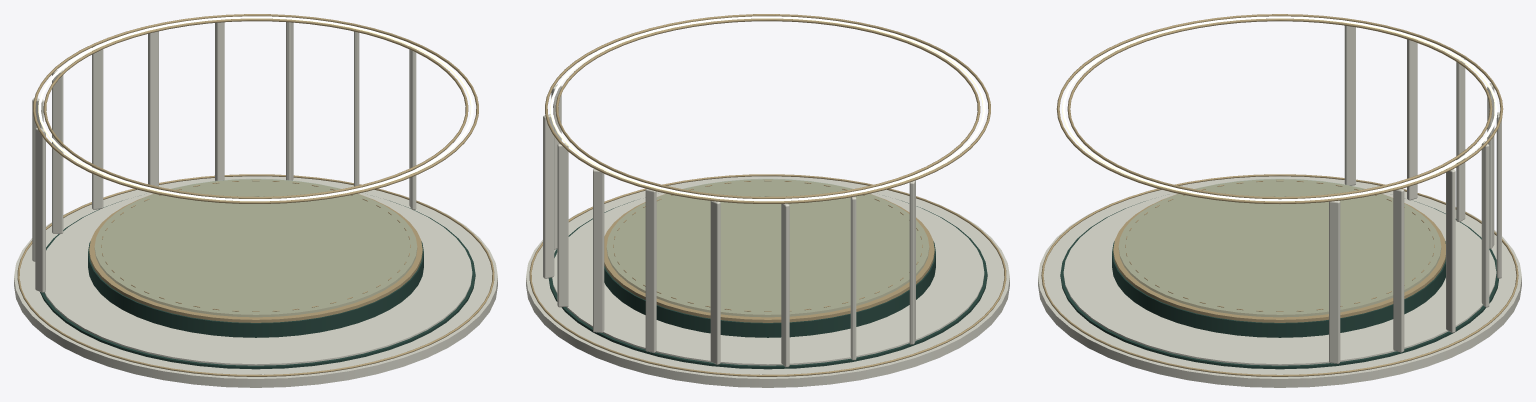
Rendered from map.glb.
The picture shows the model from 3 angles, left to right: view 1: azimuth 30°, elevation 25°; view 2: azimuth 150°, elevation 25°; view 3: azimuth 270°, elevation 25°; orthographic projection.
Visible parts, largest first — view 1: map; view 2: map; view 3: map.
Boxes of the visible parts, <box> form: map: <box>14,14,497,387</box>; map: <box>526,14,1009,387</box>; map: <box>1038,14,1521,387</box>.
Bounding box in the file's own units: 10.8 × 4.38 × 10.8.
